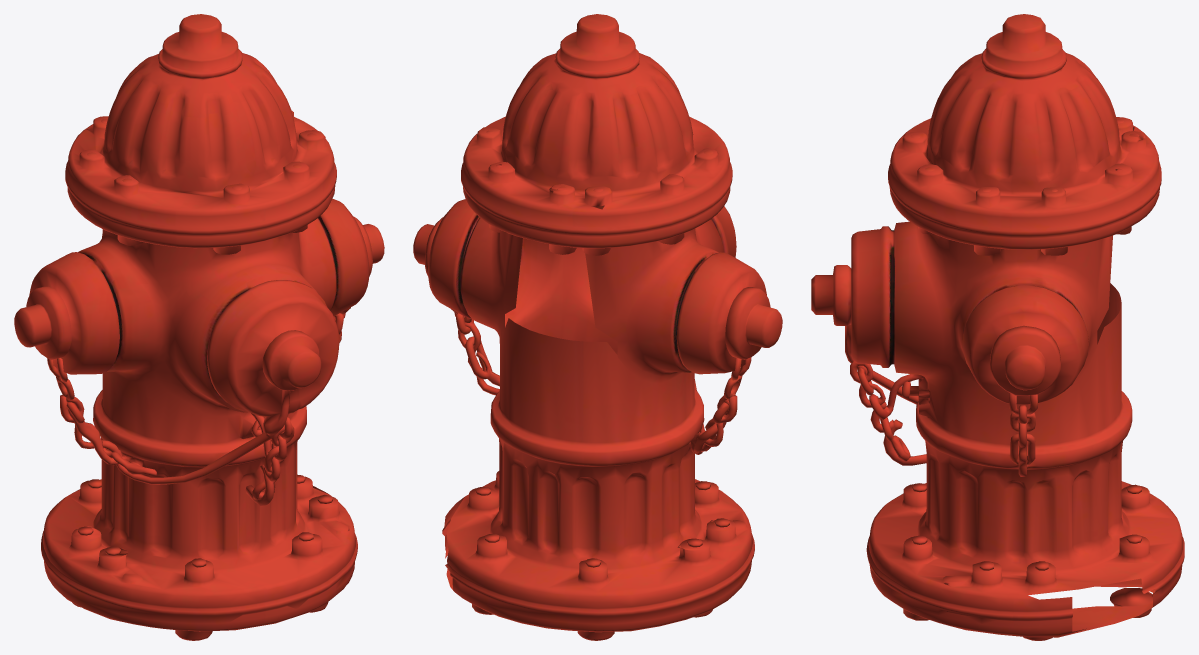
The model's file is fire_hydrant_ba0175c1_v1.glb.
The picture shows the model from 3 angles, left to right: view 1: azimuth 30°, elevation 25°; view 2: azimuth 150°, elevation 25°; view 3: azimuth 270°, elevation 25°; orthographic projection.
Visible parts, largest first — view 1: material; view 2: material; view 3: material.
Part boxes in pixels (x1=…): material: x1=14, y1=14, x2=384, y2=640; material: x1=413, y1=14, x2=782, y2=640; material: x1=811, y1=14, x2=1184, y2=640.
Size of the model in its own units: 1.27 by 1.9 by 1.14.
Materials: 1 (1 with a texture image).
